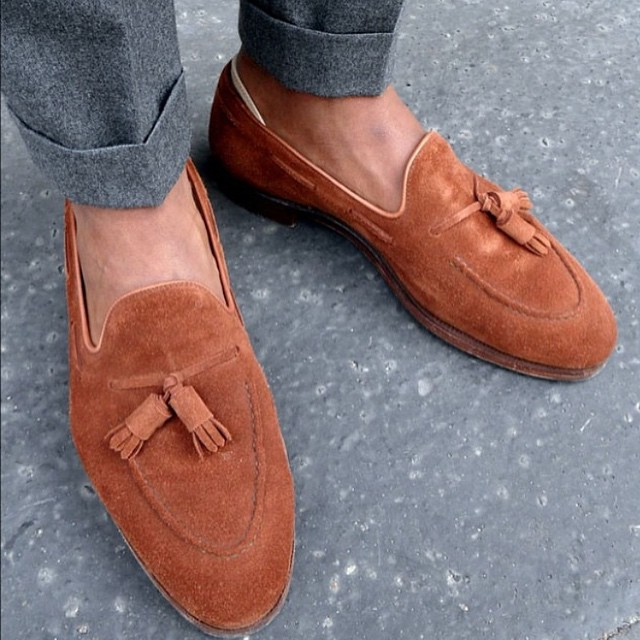sneaker: (185, 26, 640, 409), (35, 137, 332, 639)
